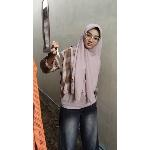Pisau: (52, 40, 66, 77)
